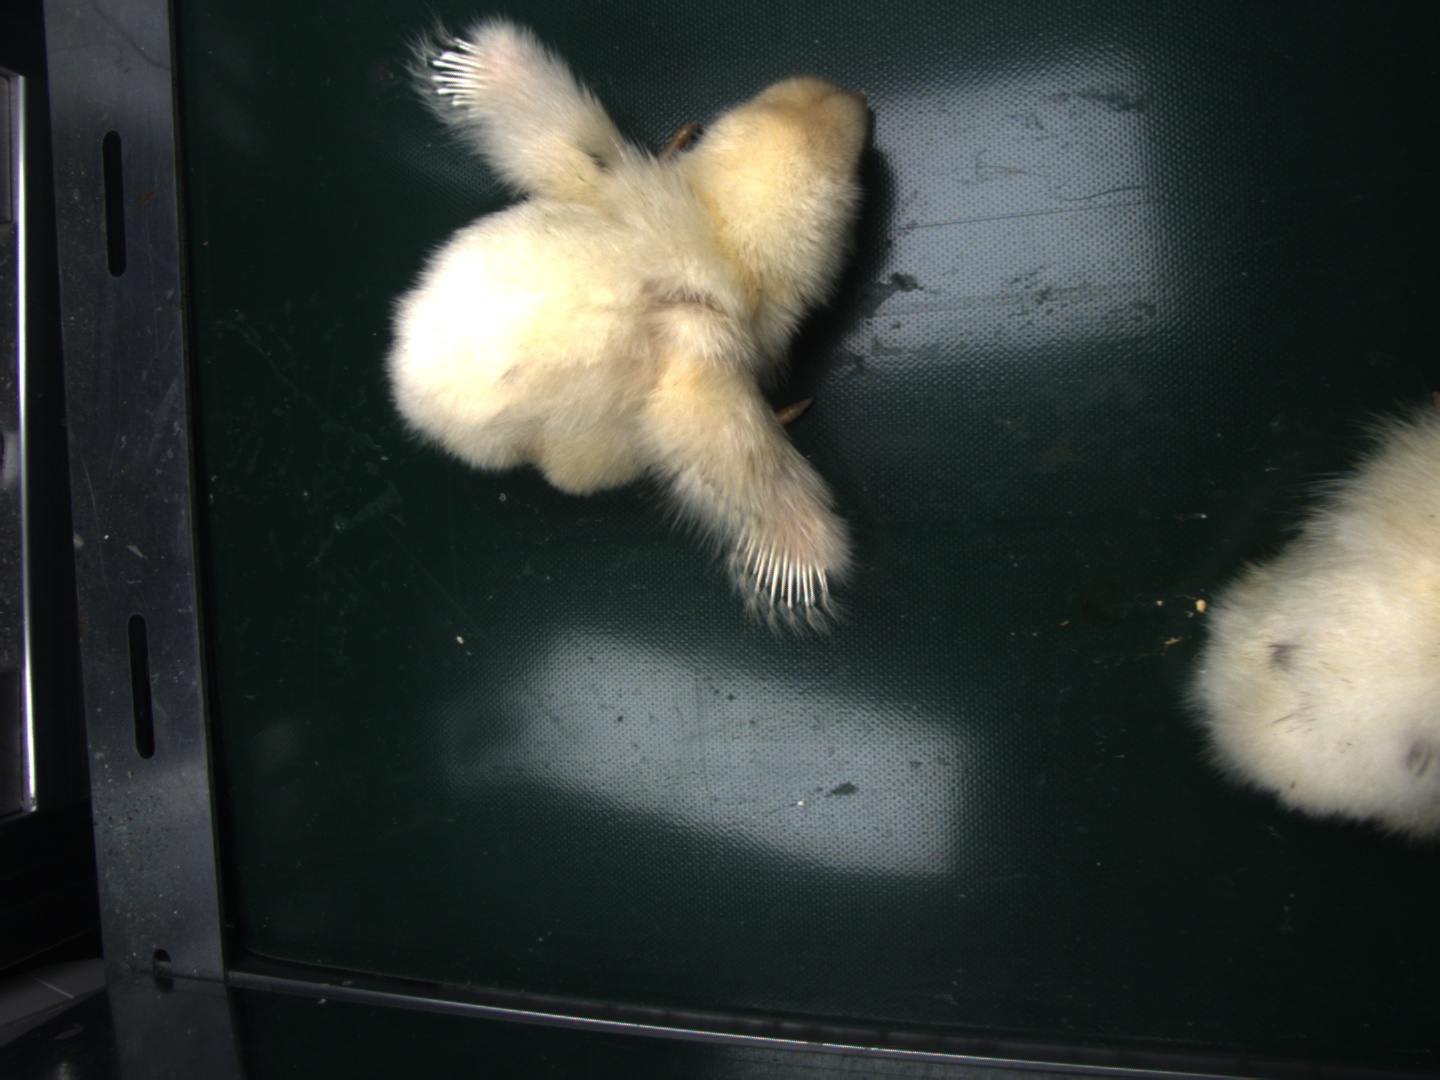male: (739, 528, 835, 615), (434, 29, 489, 113)
